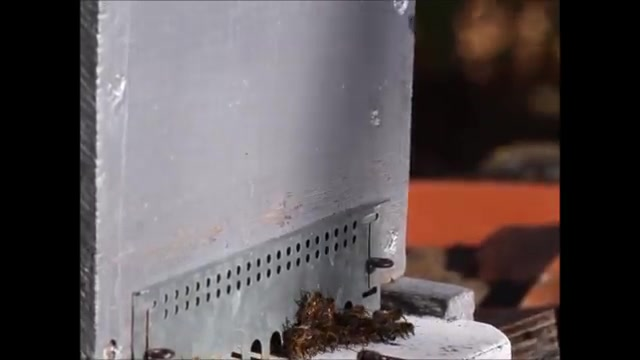bee: (352, 306, 385, 330), (387, 317, 415, 340), (282, 324, 313, 344), (308, 296, 338, 315)
